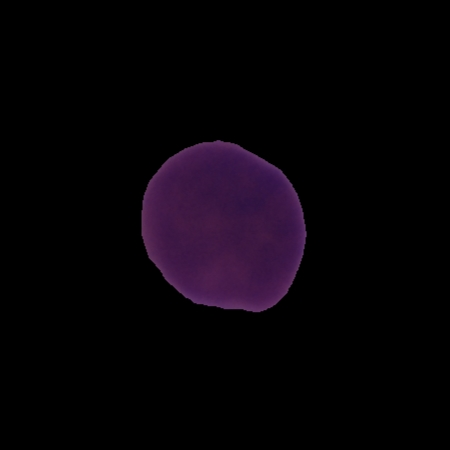ALL: (137, 137, 310, 315)
